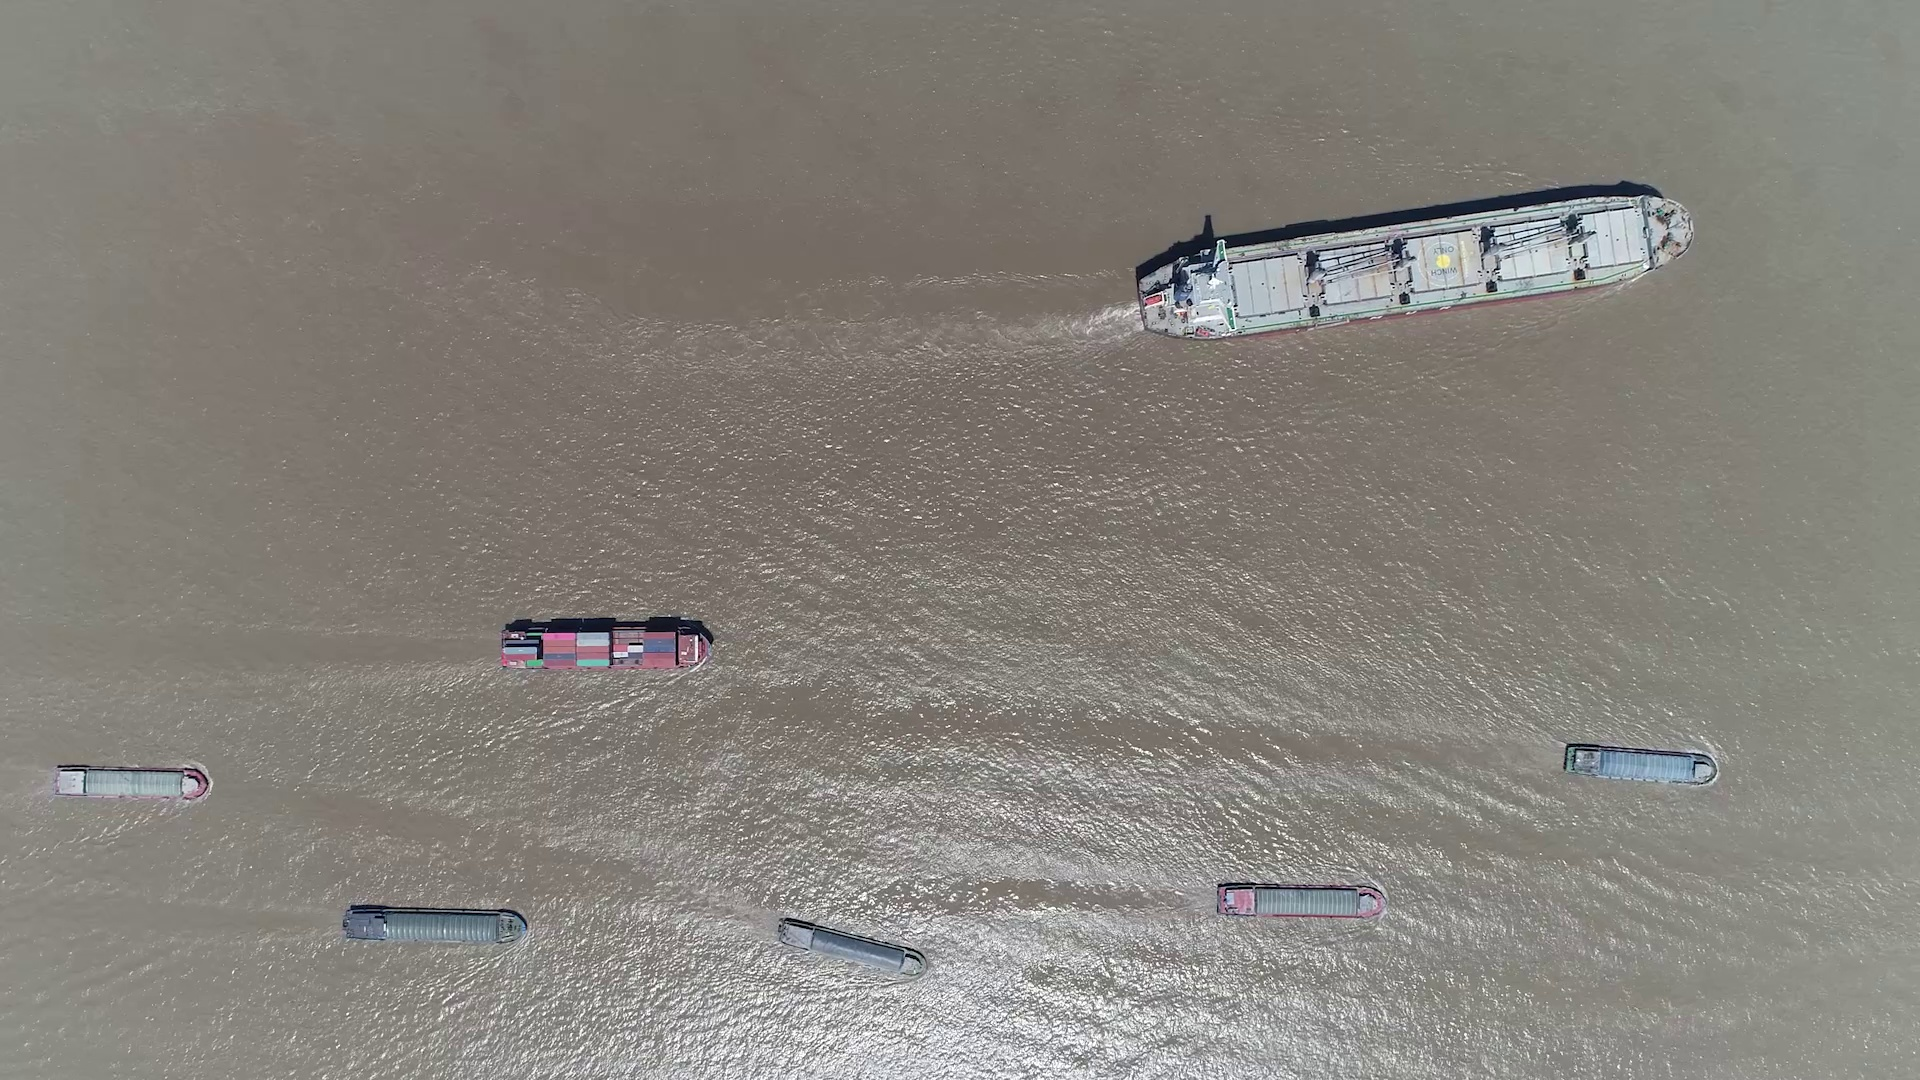ship: (1129, 193, 1692, 339), (501, 622, 713, 670), (775, 919, 923, 976), (342, 905, 525, 945), (1565, 742, 1717, 785), (1217, 882, 1385, 919), (51, 765, 207, 800)
